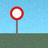sign: (10, 7, 24, 37)
